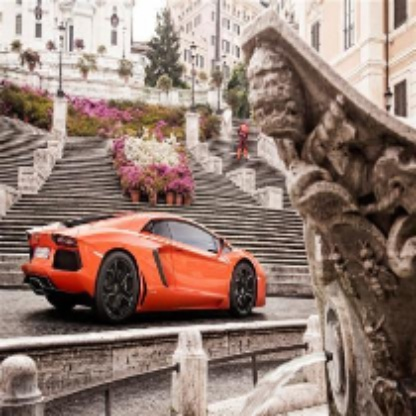Vehicle: (21, 205, 270, 332)
